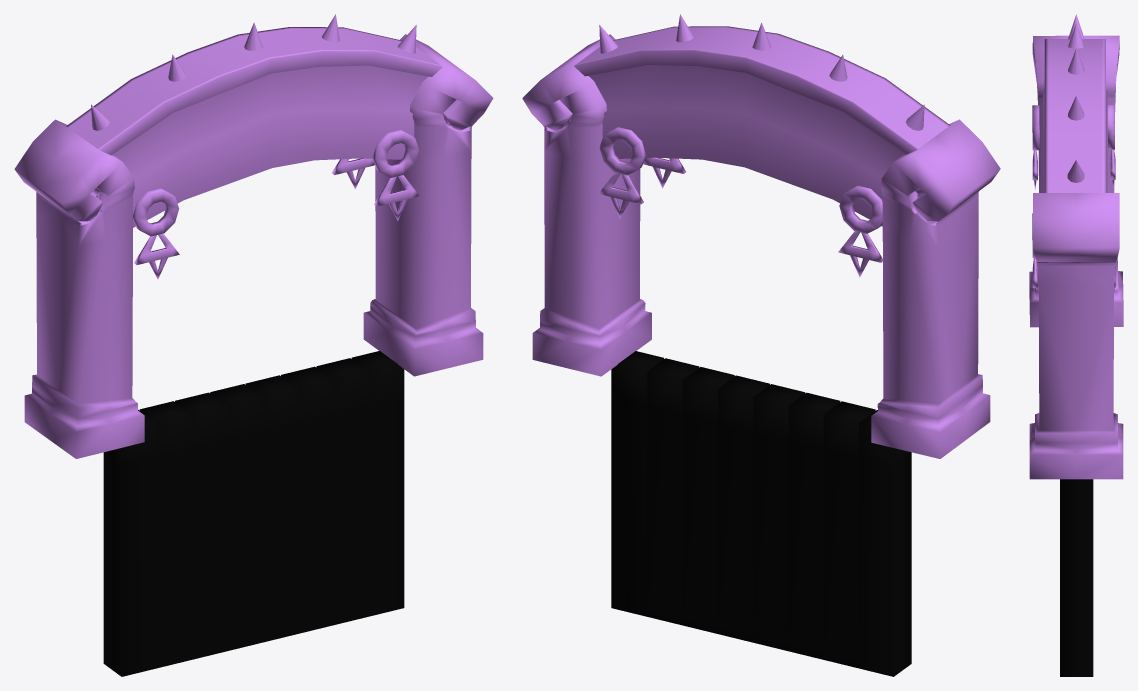
The model's file is gate_lowfinal.fbx.
The picture shows the model from 3 angles, left to right: view 1: azimuth 30°, elevation 25°; view 2: azimuth 150°, elevation 25°; view 3: azimuth 270°, elevation 25°; orthographic projection. The views are drawn at different scales.
Parts seen in each view (by area): view 1: base gate_low, gate door_low; view 2: base gate_low, gate door_low; view 3: base gate_low, gate door_low.
Boxes of the visible parts, <box> form: base gate_low: <box>14,14,493,458</box>; gate door_low: <box>103,351,404,676</box>; base gate_low: <box>522,14,1000,458</box>; gate door_low: <box>611,351,911,676</box>; base gate_low: <box>1029,14,1123,479</box>; gate door_low: <box>1060,479,1093,676</box>.
Size of the model in its own units: 580 by 119 by 787.
